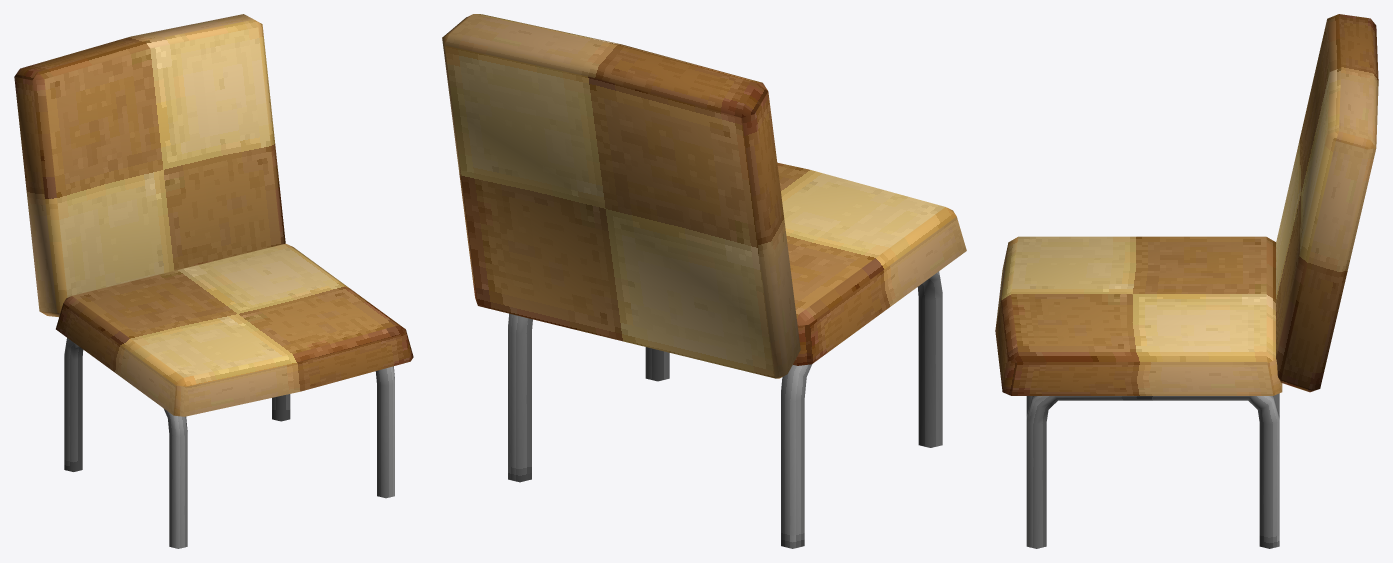
The model's file is int_swt_chairS.dae.
The picture shows the model from 3 angles, left to right: view 1: azimuth 30°, elevation 25°; view 2: azimuth 150°, elevation 25°; view 3: azimuth 270°, elevation 25°; orthographic projection. The views are drawn at different scales.
Visible parts, largest first — view 1: int_swt_chairS; view 2: int_swt_chairS; view 3: int_swt_chairS.
Part boxes in pixels (bbox=[...]): int_swt_chairS: bbox=[14, 14, 413, 548]; int_swt_chairS: bbox=[442, 14, 966, 548]; int_swt_chairS: bbox=[995, 14, 1378, 548].
Bounding box in the file's own units: 23.12 × 34.78 × 28.78.
1 material, 1 textured.
